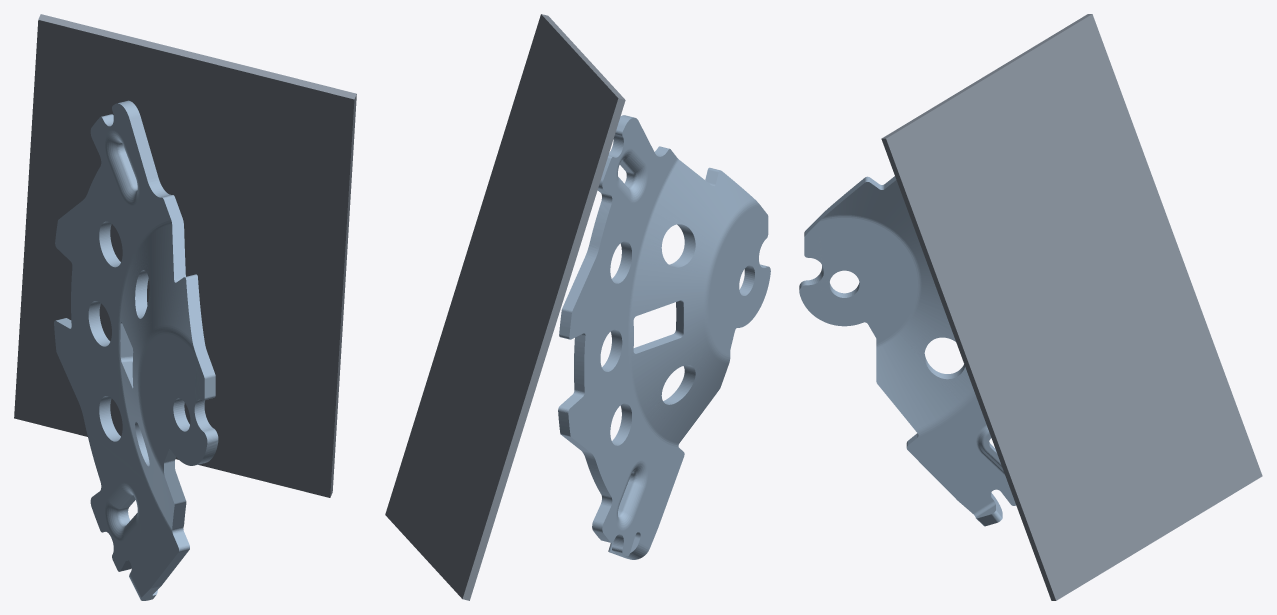
Rendered from part_original_with_platform.obj.
The picture shows the model from 3 angles, left to right: view 1: azimuth 30°, elevation 25°; view 2: azimuth 150°, elevation 25°; view 3: azimuth 270°, elevation 25°; orthographic projection. The views are drawn at different scales.
Parts seen in each view (by area): view 1: BuildPlate, Part; view 2: BuildPlate, Part; view 3: BuildPlate, Part.
Part boxes in pixels (x1,y1,x2,y2): BuildPlate: [14, 14, 356, 497]; Part: [54, 100, 218, 600]; BuildPlate: [385, 14, 625, 600]; Part: [558, 115, 770, 559]; BuildPlate: [881, 14, 1262, 600]; Part: [799, 176, 1015, 526].
Bounding box in the file's own units: 75.07 × 143 × 123.
